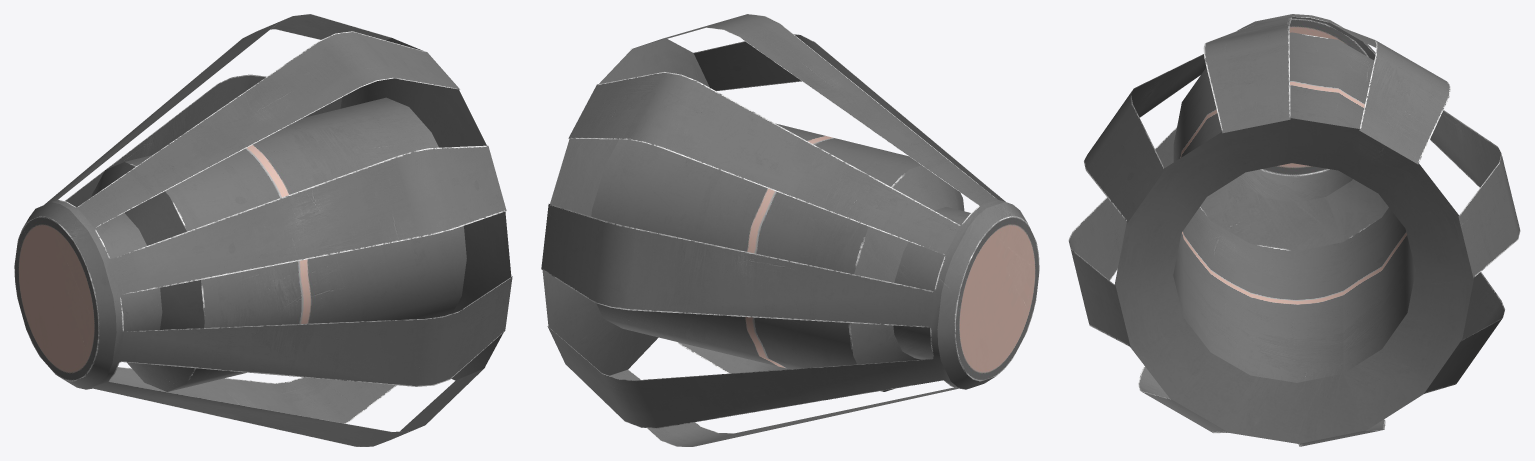
File: pommel_14_c_c.glb
The picture shows the model from 3 angles, left to right: view 1: azimuth 30°, elevation 25°; view 2: azimuth 150°, elevation 25°; view 3: azimuth 270°, elevation 25°; orthographic projection. The views are drawn at different scales.
Parts seen in each view (by area): view 1: pommel_14_c_c_lod0; view 2: pommel_14_c_c_lod0; view 3: pommel_14_c_c_lod0.
Part boxes in pixels (x1,y1,x2,y2): pommel_14_c_c_lod0: (14,14,512,446); pommel_14_c_c_lod0: (541,14,1039,446); pommel_14_c_c_lod0: (1068,14,1520,446).
Size of what is drawn, in the model's own units: 0.0346 by 0.0358 by 0.0358.
1 material, 1 textured.
